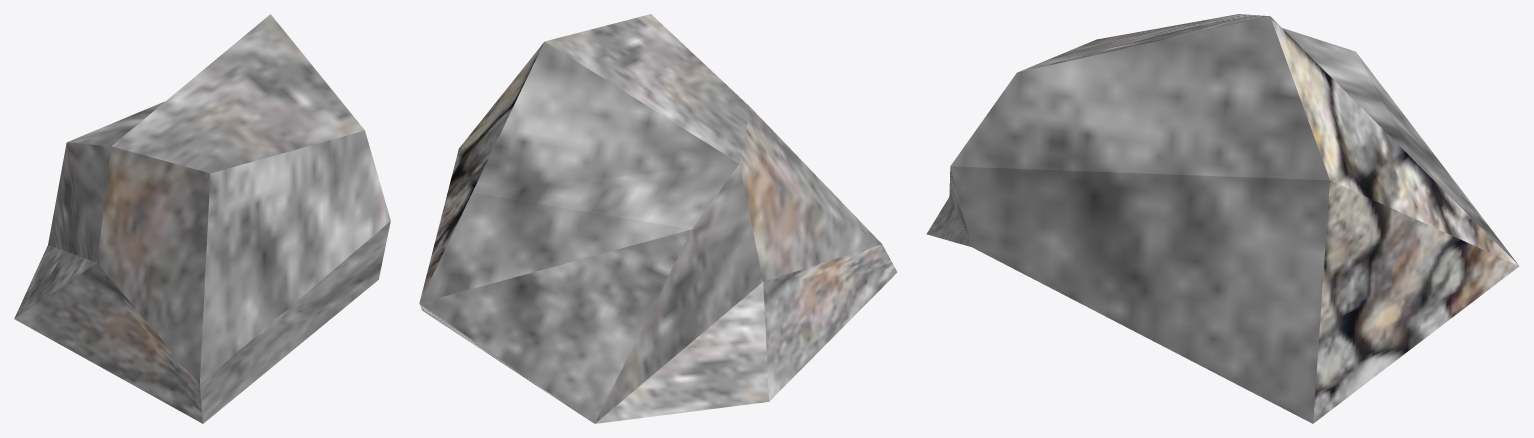
The model's file is Stone_3.fbx.
3 renders of one model, left to right at view 1: azimuth 30°, elevation 25°; view 2: azimuth 150°, elevation 25°; view 3: azimuth 270°, elevation 25°, orthographic. The views are drawn at different scales.
Parts seen in each view (by area): view 1: Stone2; view 2: Stone2; view 3: Stone2.
Boxes of the visible parts, x1,y1,x2,y2 form: Stone2: (14,14,390,423); Stone2: (419,14,897,423); Stone2: (926,14,1519,423).
Size of the model in its own units: 81.64 by 62.12 by 96.82.
Materials: 1 (1 with a texture image).
